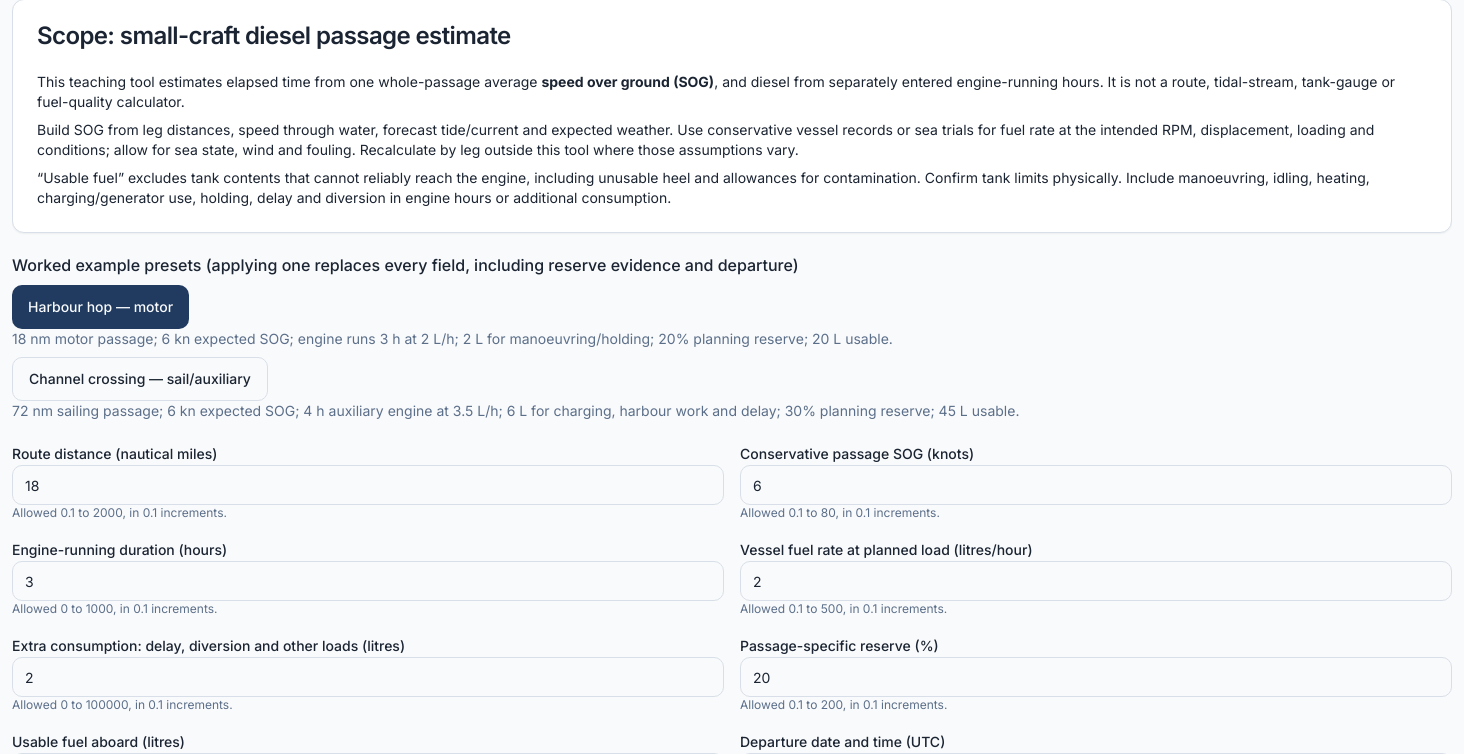
FuelCalculator › resets a derived group when a sibling contributor changes
This screenshot has width=1464, height=754.
Replace the text in the number field labelled "Route distance (nautical miles)" with "2000" at (368, 485), box [12, 465, 724, 505]
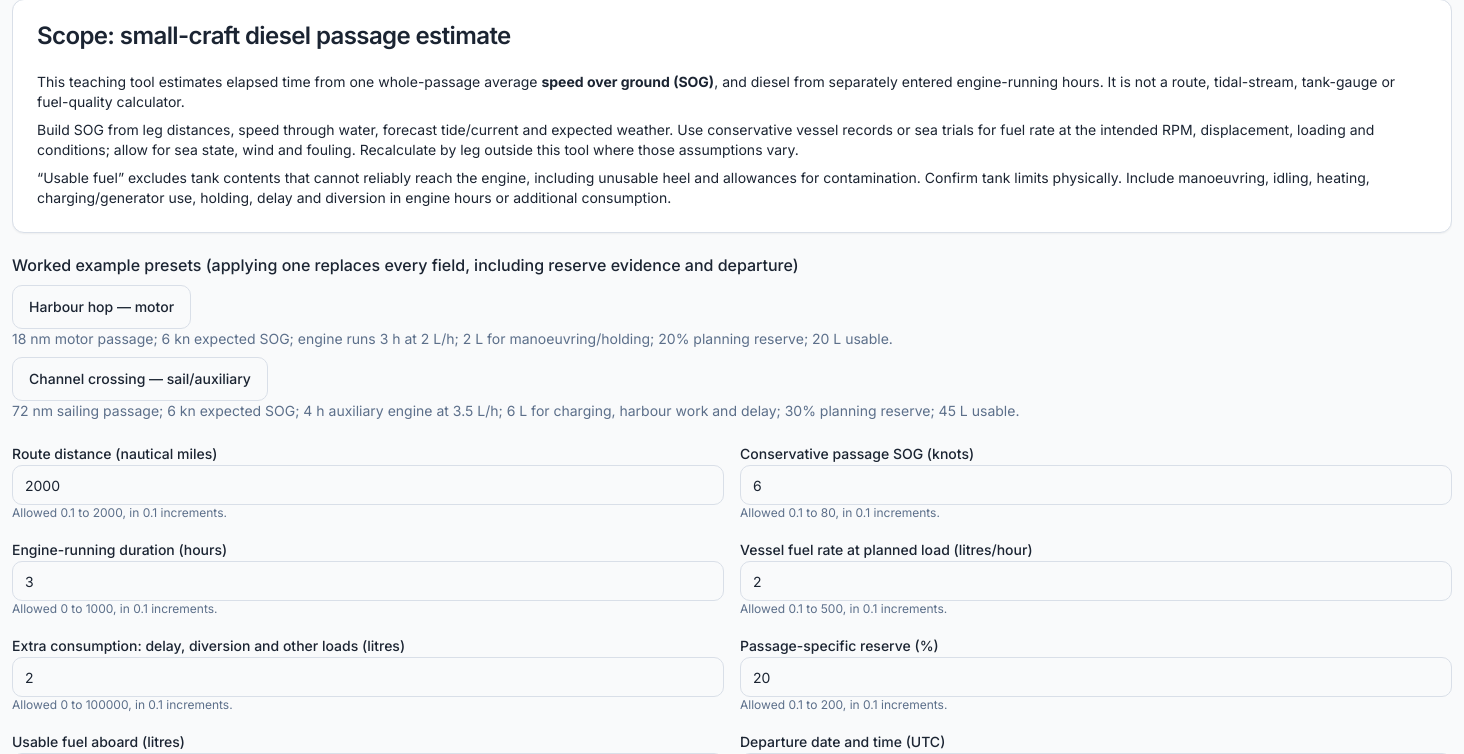
Expected: the text "Derived passage duration" is not shown
Replace the text in the number field labelled "Conservative passage SOG (knots)" with "0.1" at (1096, 485), box [740, 465, 1452, 505]
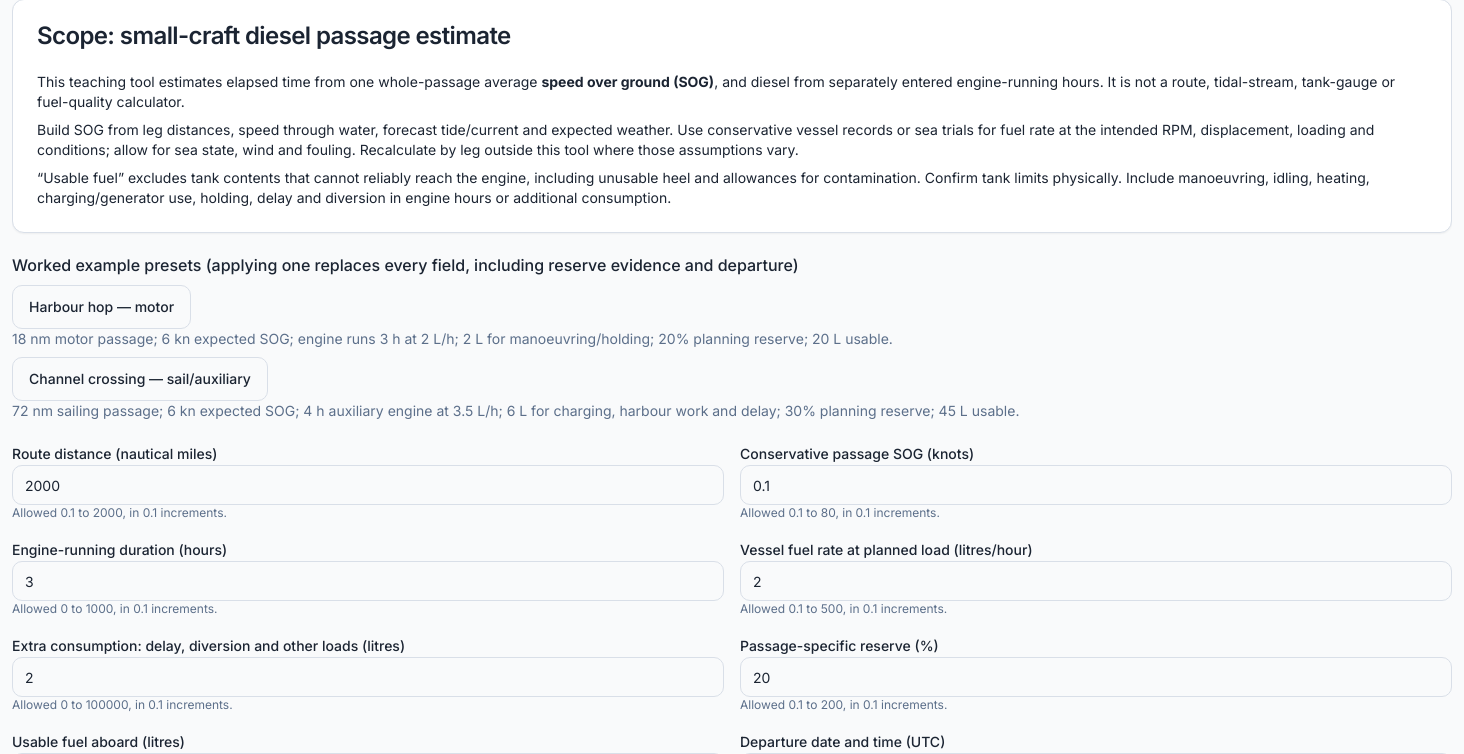
Expected: the text "Derived passage duration" is not shown
Leave the number field labelled "Conservative passage SOG (knots)", box [740, 465, 1452, 505]
(page scrolled)
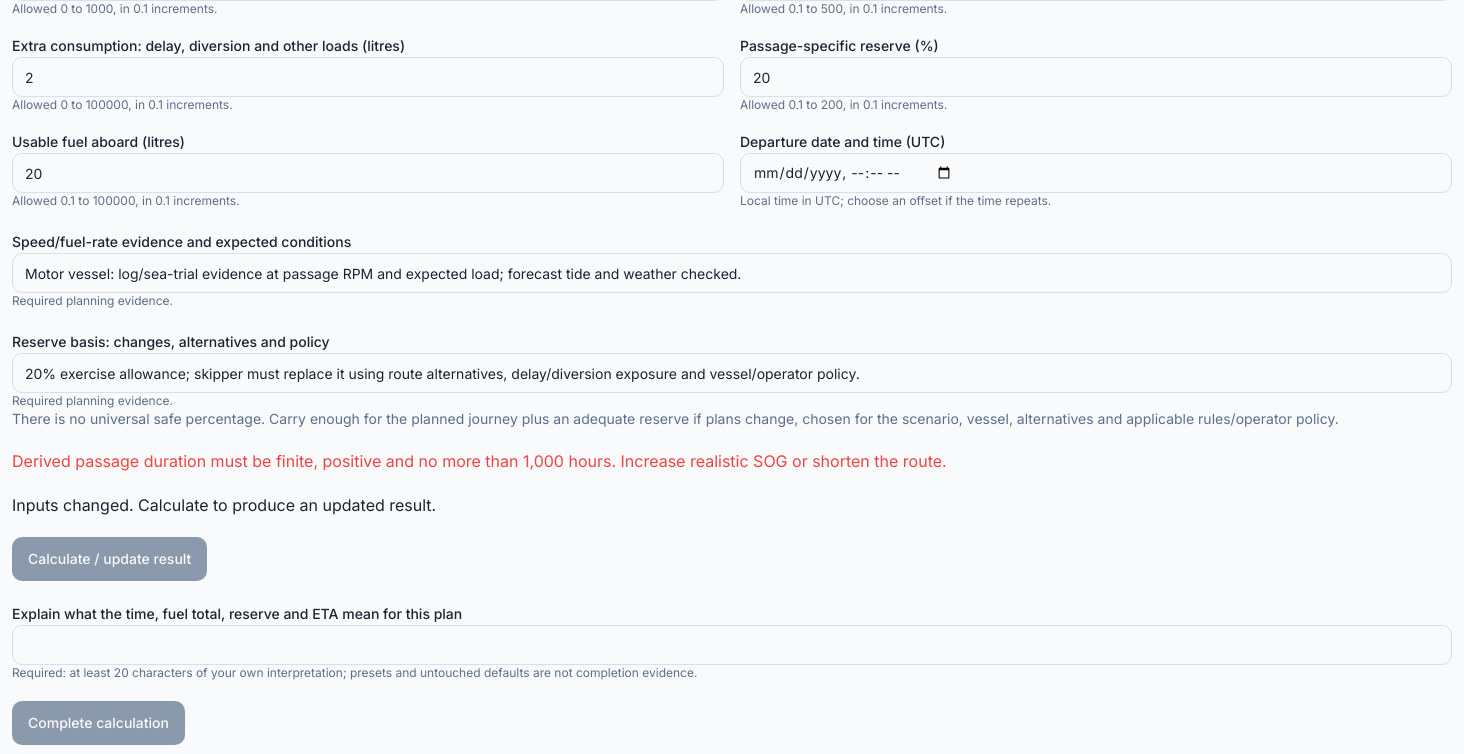
Now the text "Derived passage duration" is shown, box [12, 451, 947, 471]
